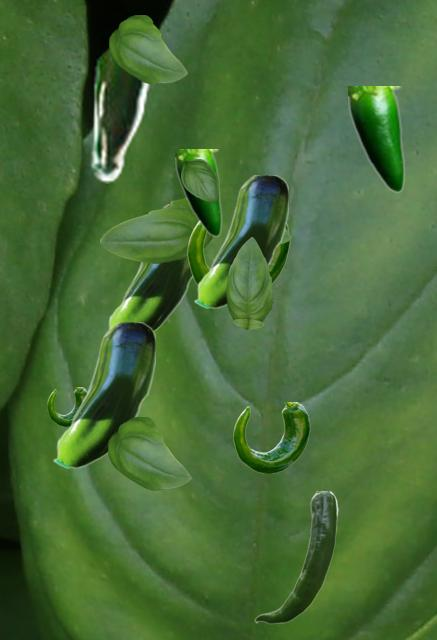green_chili: (52, 322, 154, 468), (193, 175, 287, 308), (254, 491, 337, 623), (106, 204, 192, 331), (87, 44, 152, 182), (187, 222, 289, 284), (348, 86, 404, 192), (233, 402, 309, 472), (175, 149, 221, 236), (47, 387, 86, 425)
